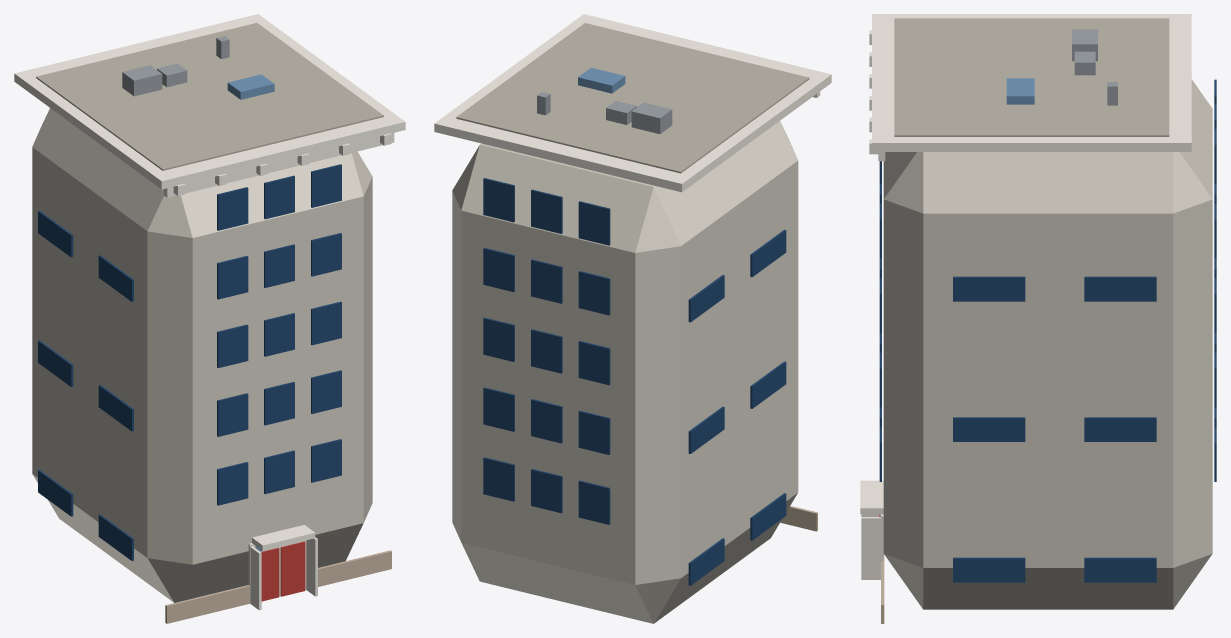
The model's file is apt_w12_f6_punched.glb.
The picture shows the model from 3 angles, left to right: view 1: azimuth 30°, elevation 25°; view 2: azimuth 150°, elevation 25°; view 3: azimuth 270°, elevation 25°; orthographic projection. The views are drawn at different scales.
Parts seen in each view (by area): view 1: walls, roofslab, corn, bsmt, frieze, door.001, win.003, win, win.006, win.012, win.009, win.001 (+21 smaller); view 2: walls, roofslab, corn, win.024, win.015, win.021, win.027, win.018, win.017, win.020, win.025, win.016 (+15 smaller); view 3: walls, roofslab, corn, sb.003, sb.011, sb.001, sb.009, sb.005, sb.007, cpost.001, canopy, skylt (+2 smaller).
Boxes of the visible parts, left/top/right/bottom form: walls: left=32, top=108, right=372, bottom=602; roofslab: left=36, top=23, right=383, bottom=170; corn: left=14, top=14, right=405, bottom=189; bsmt: left=165, top=550, right=391, bottom=623; frieze: left=164, top=133, right=394, bottom=197; door.001: left=280, top=541, right=305, bottom=596; win.003: left=217, top=393, right=248, bottom=436; win: left=217, top=462, right=248, bottom=505; win.006: left=217, top=324, right=248, bottom=368; win.012: left=217, top=187, right=248, bottom=230; win.009: left=217, top=256, right=248, bottom=299; win.001: left=264, top=450, right=294, bottom=494; walls: left=452, top=121, right=798, bottom=623; roofslab: left=456, top=23, right=809, bottom=173; corn: left=434, top=14, right=831, bottom=192; win.024: left=578, top=271, right=610, bottom=315; win.015: left=578, top=480, right=610, bottom=524; win.021: left=578, top=341, right=610, bottom=385; win.027: left=578, top=201, right=610, bottom=245; win.018: left=578, top=410, right=610, bottom=454; win.017: left=483, top=457, right=514, bottom=501; win.020: left=483, top=387, right=514, bottom=431; win.025: left=531, top=259, right=562, bottom=303; win.016: left=531, top=469, right=562, bottom=513; walls: left=883, top=79, right=1212, bottom=609; roofslab: left=894, top=18, right=1169, bottom=136; corn: left=872, top=14, right=1191, bottom=151; sb.003: left=1084, top=557, right=1156, bottom=582; sb.011: left=1084, top=276, right=1156, bottom=301; sb.001: left=953, top=557, right=1025, bottom=582; sb.009: left=953, top=276, right=1025, bottom=301; sb.005: left=953, top=417, right=1025, bottom=441; sb.007: left=1084, top=417, right=1156, bottom=441; cpost.001: left=861, top=517, right=880, bottom=579; canopy: left=860, top=480, right=883, bottom=514; skylt: left=1006, top=78, right=1034, bottom=104.
Bounding box in the file's own units: 13 × 23.8 × 15.17.
